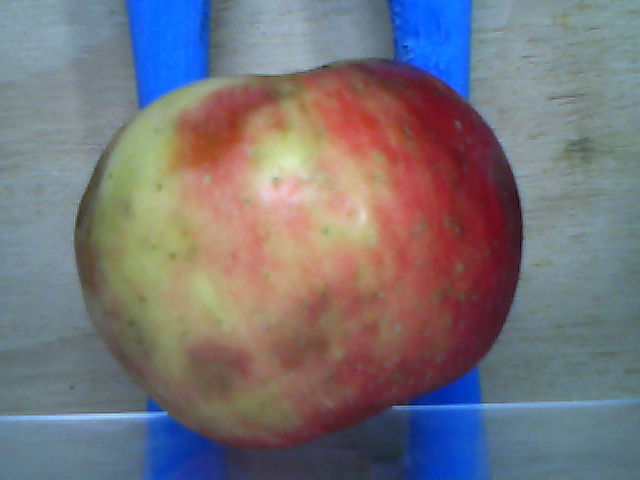bruise: (178, 107, 248, 176)
